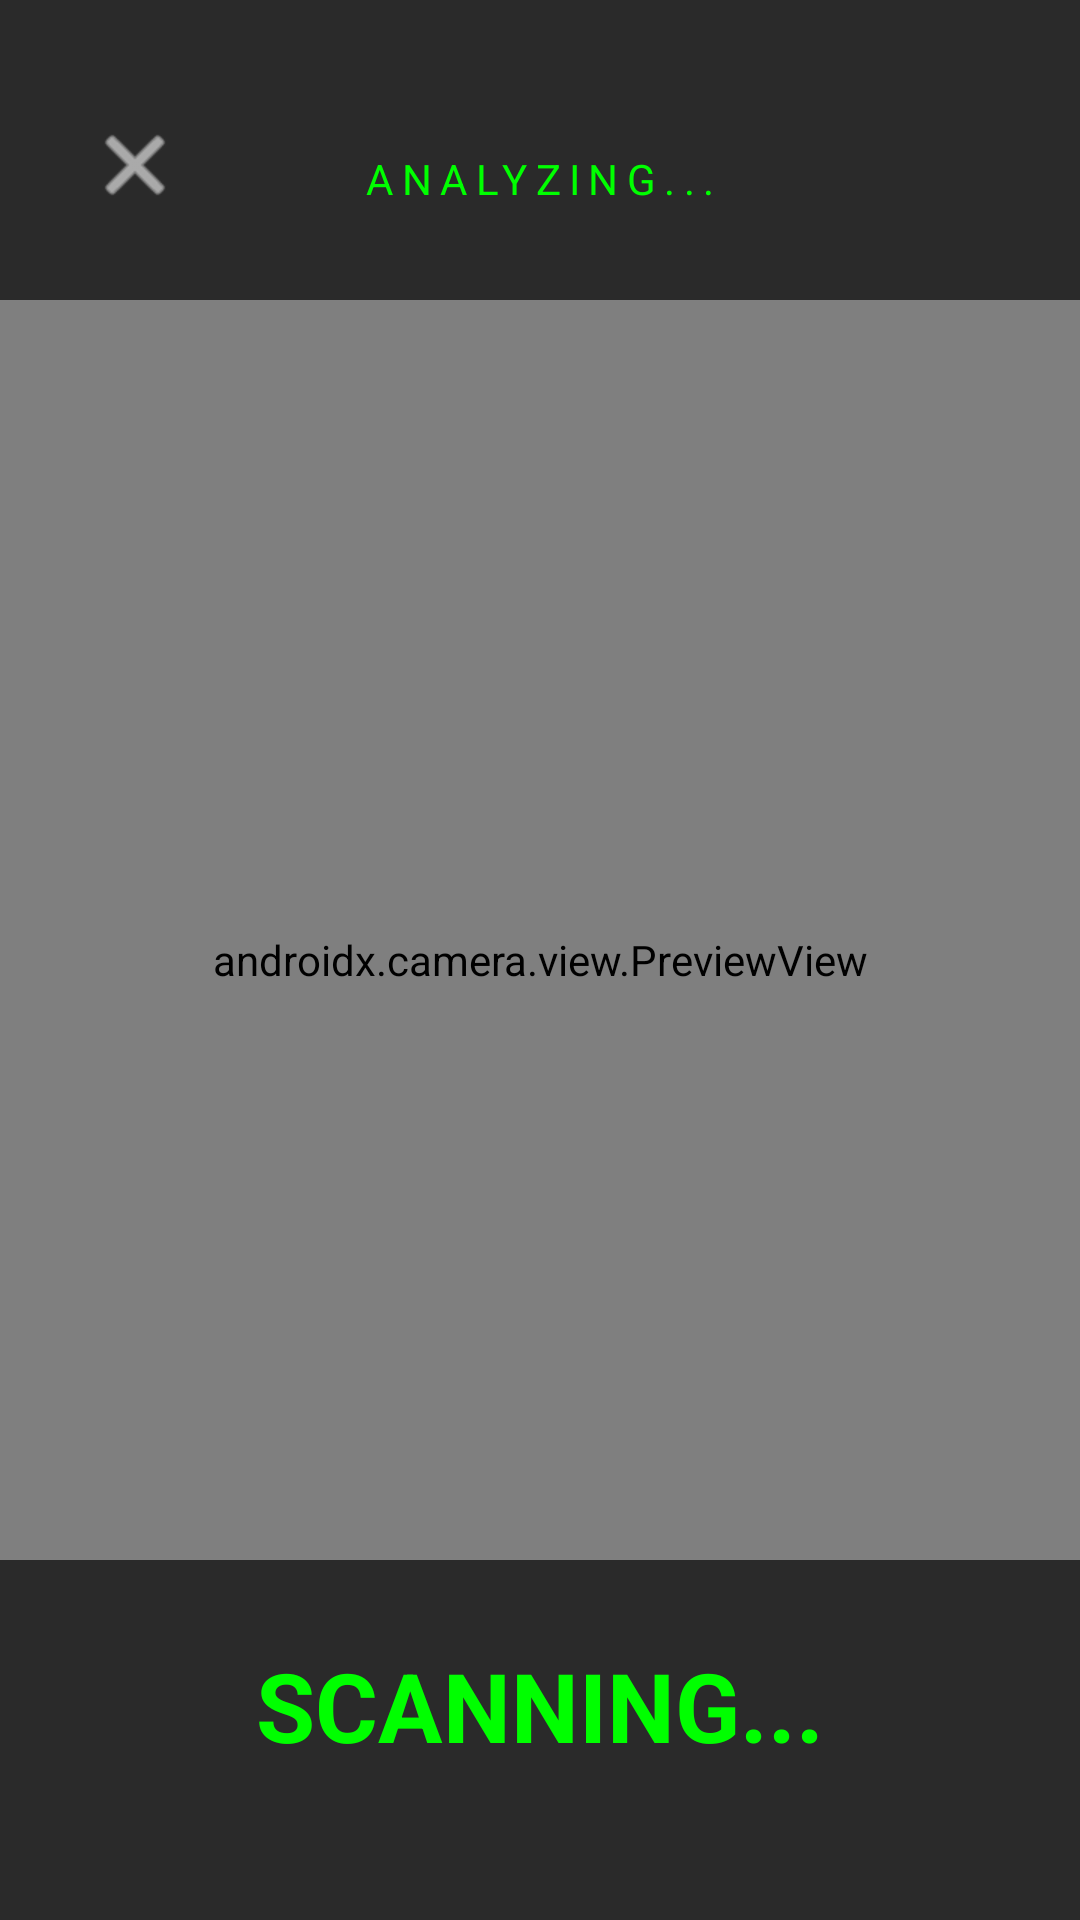

Where to tap for icons on this 1080x1920 app screen, as (x=x, y=y):
close clear cancel: (x=135, y=165)
